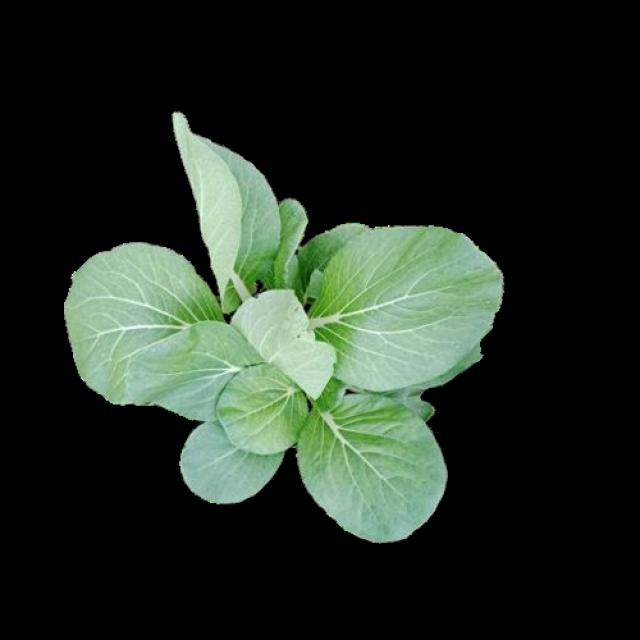healthy: (87, 130, 516, 562)
mature: (69, 114, 498, 545)
